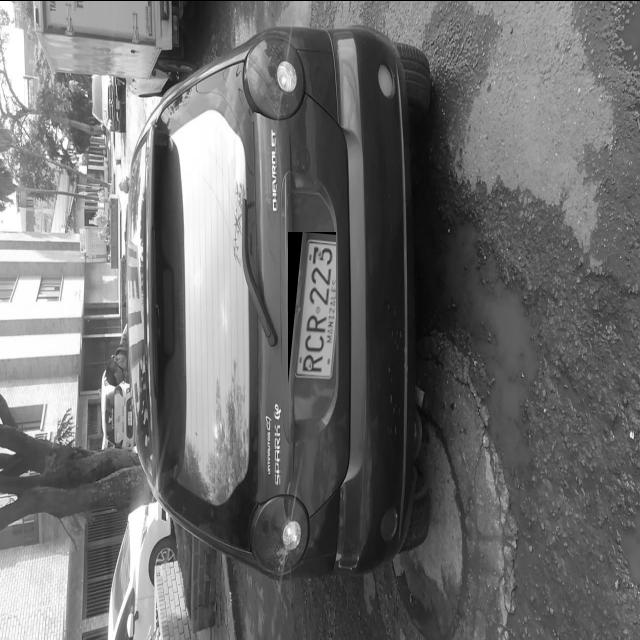plate: (288, 231, 336, 384)
